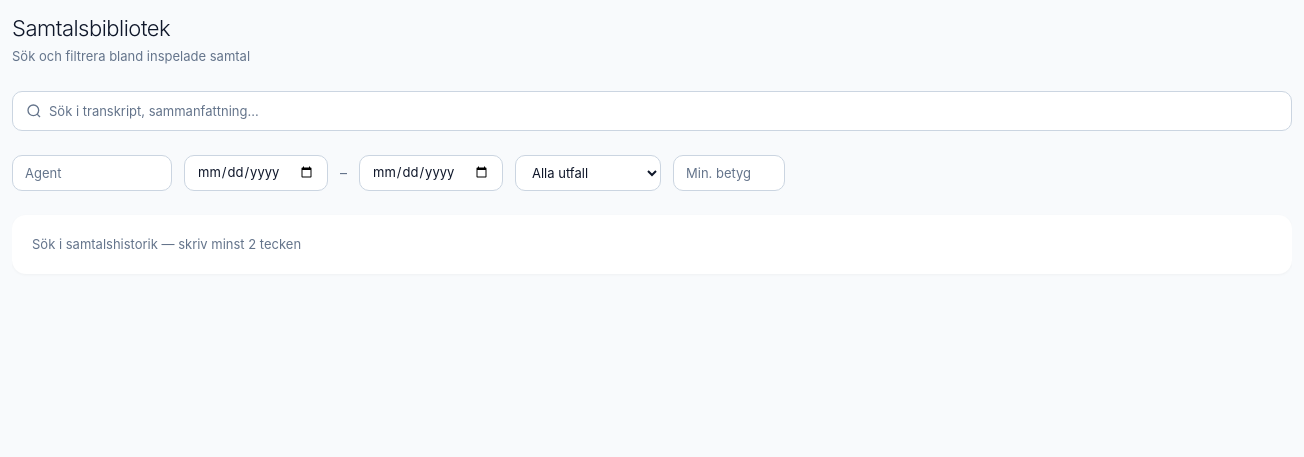
CallLibraryPage › shows results after search
Type "Saleflow" into the search field named "sök samtal" at (652, 110), box [12,90,1292,130]
Wait 350 ms
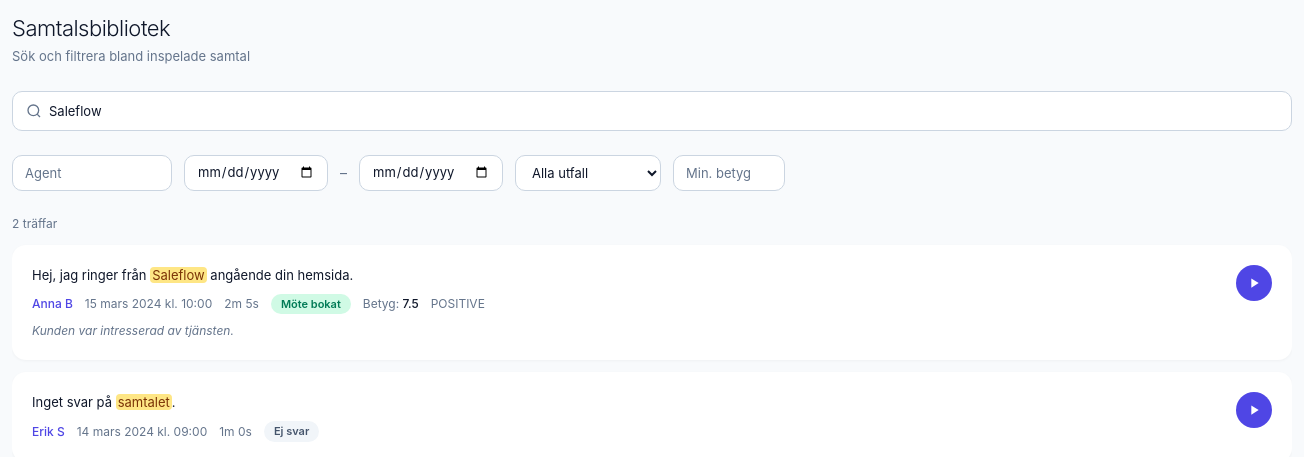
Now the text "Anna B" is shown, box [32,295,73,313]
Now the text "Erik S" is shown, box [32,422,65,440]
Now the text "2 träffar" is shown, box [12,216,57,230]
